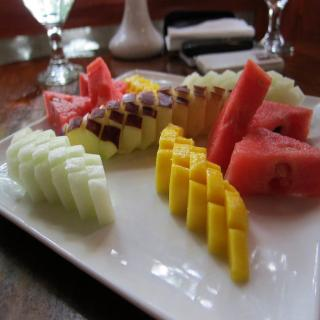Watermelon: (203, 60, 272, 172), (224, 124, 319, 199), (248, 98, 314, 142), (44, 88, 91, 132), (86, 56, 121, 108), (81, 72, 127, 94)
